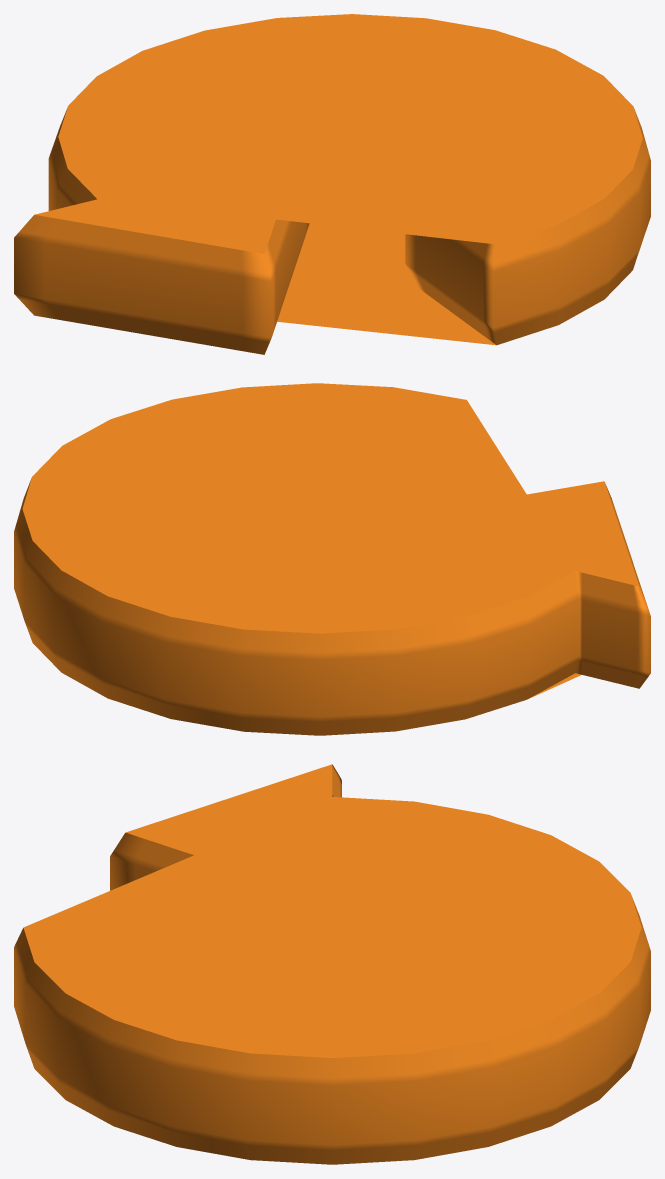
Rendered from sign_turnleft.fbx.
3 renders of one model, top to bottom at view 1: azimuth 30°, elevation 25°; view 2: azimuth 150°, elevation 25°; view 3: azimuth 270°, elevation 25°, orthographic. The views are drawn at different scales.
Parts seen in each view (by area): view 1: polySurface27; view 2: polySurface27; view 3: polySurface27.
Part boxes in pixels (box(x1,y1,x2,y2)): polySurface27: box(14, 14, 650, 354); polySurface27: box(14, 383, 650, 735); polySurface27: box(14, 764, 650, 1164).
Bounding box in the file's own units: 0.6779 × 0.1102 × 0.5963.
Materials: 1 (1 with a texture image).
